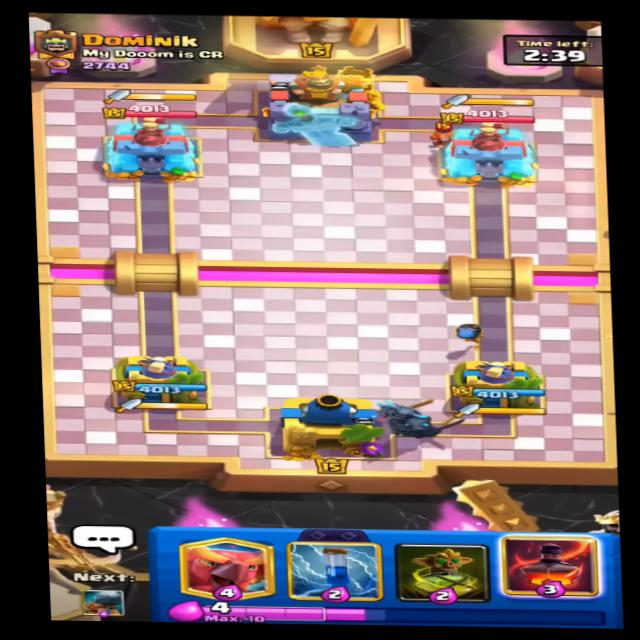valkyrie: (412, 120, 470, 150)
